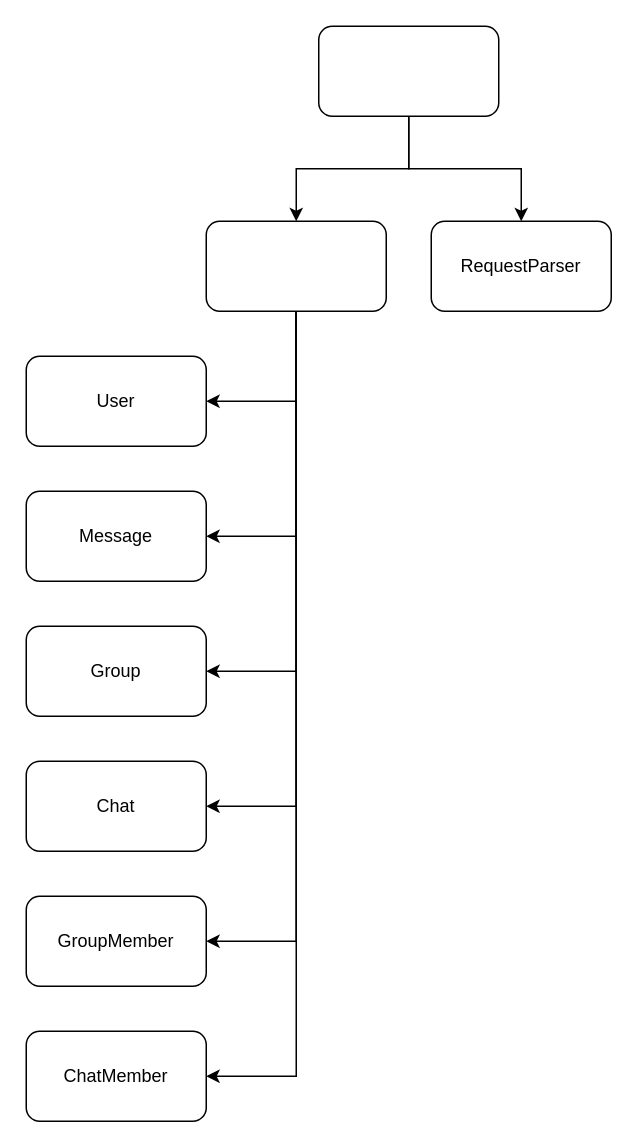
This 638x1148 diagram has some shape labels left out. Each missing label, with the centre of its shape:
"DatabaseController" goes at (295,265).
"Server" goes at (408,70).
